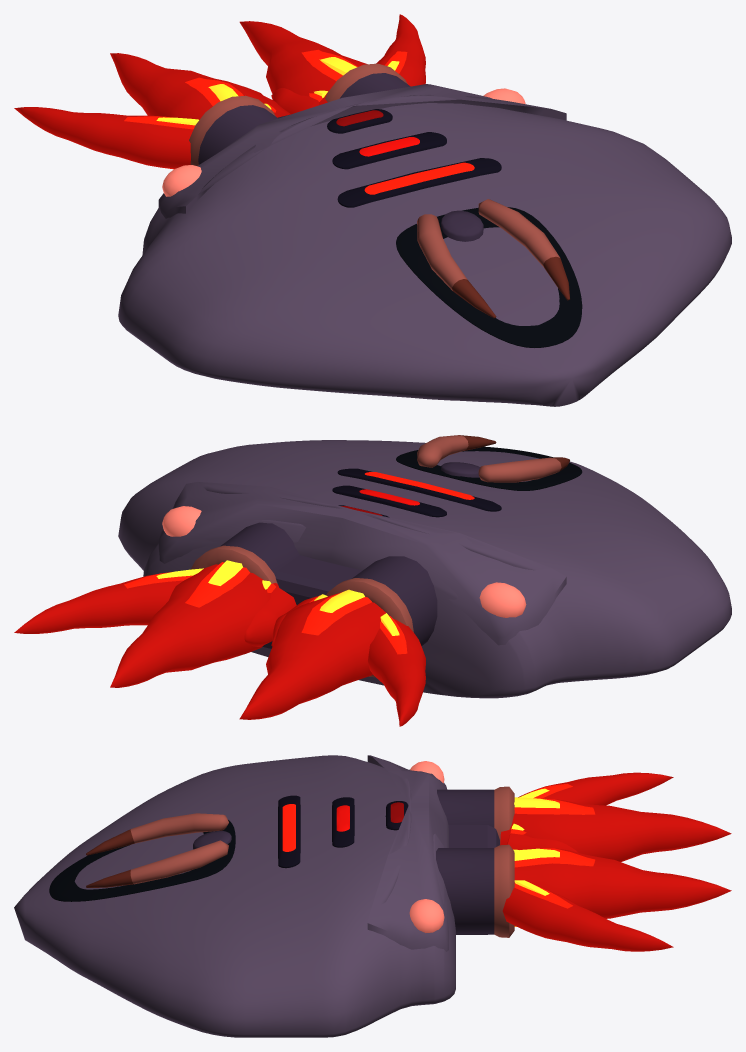
The model's file is purple_fighter_49.glb.
3 renders of one model, top to bottom at view 1: azimuth 30°, elevation 25°; view 2: azimuth 150°, elevation 25°; view 3: azimuth 270°, elevation 25°, orthographic. The views are drawn at different scales.
Parts seen in each view (by area): view 1: body, plate, flame_tip1, mouth, flame_tip0, flame_tip0_r, engine, mandible, mandible_r, slit2, engine_r, flame_tip1_r (+6 smaller); view 2: body, plate, flame_tip0_r, flame_tip0, flame_tip1_r, engine, flame_tip1, engine_r, bridge, mouth, mandible_r, flame_tip2_r (+11 smaller); view 3: body, plate, flame_tip0_r, flame_tip0, engine_r, flame_tip1_r, mouth, engine, flame_tip1, mandible, mandible_r, bridge (+7 smaller).
Boxes of the visible parts, x1,y1,x2,y2 form: body: [118, 103, 731, 406]; plate: [158, 84, 566, 218]; flame_tip1: [14, 107, 193, 168]; mouth: [396, 207, 582, 347]; flame_tip0: [110, 53, 277, 119]; flame_tip0_r: [239, 21, 367, 105]; engine: [189, 95, 277, 165]; mandible: [478, 199, 569, 300]; mandible_r: [417, 214, 496, 318]; slit2: [337, 158, 501, 207]; engine_r: [325, 63, 410, 102]; flame_tip1_r: [376, 14, 425, 86]; body: [118, 440, 731, 698]; plate: [158, 482, 566, 645]; flame_tip0_r: [110, 564, 278, 687]; flame_tip0: [239, 593, 389, 719]; flame_tip1_r: [14, 574, 183, 633]; engine: [326, 556, 437, 677]; flame_tip1: [368, 619, 425, 726]; engine_r: [190, 522, 299, 583]; bridge: [262, 555, 362, 648]; mouth: [396, 446, 582, 490]; mandible_r: [478, 457, 569, 482]; flame_tip2_r: [244, 587, 296, 646]; body: [14, 755, 455, 1037]; plate: [367, 755, 448, 951]; flame_tip0_r: [514, 848, 731, 918]; flame_tip0: [500, 799, 731, 861]; engine_r: [436, 844, 514, 937]; flame_tip1_r: [502, 887, 673, 951]; mouth: [49, 820, 235, 901]; engine: [437, 786, 514, 844]; flame_tip1: [518, 772, 673, 805]; mandible: [86, 840, 228, 887]; mandible_r: [86, 813, 228, 855]; bridge: [448, 825, 499, 934].
Size of the model in its own units: 21.4 by 5.32 by 26.6.
